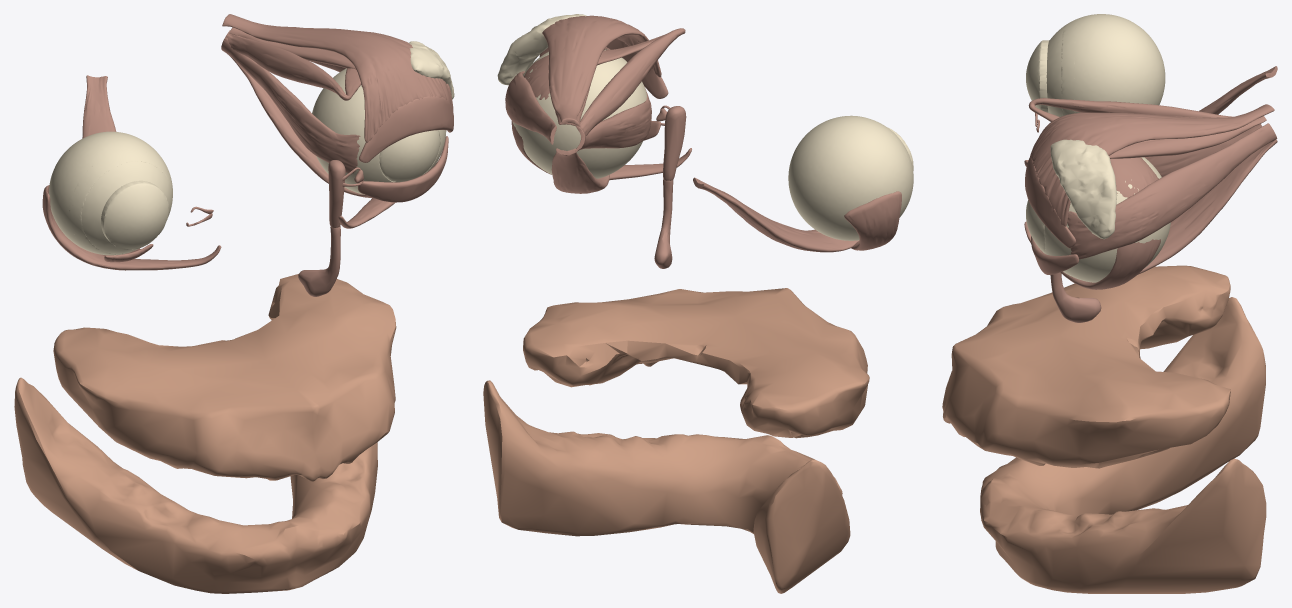
The model's file is head-0.glb.
3 views of the same model, side by side, from view 1: azimuth 30°, elevation 25°; view 2: azimuth 150°, elevation 25°; view 3: azimuth 270°, elevation 25° (orthographic). The views are drawn at different scales.
Parts seen in each view (by area): view 1: FJ1252, FJ1253, FJ1306, FJ1337, FJ1308, FJ1340, FJ1317, FJ1336, FJ1322, FJ1324, FJ1289, FJ1345 (+8 smaller); view 2: FJ1253, FJ1252, FJ1337, FJ1306, FJ1317, FJ1322, FJ1346, FJ1308, FJ1345, FJ1304, FJ1299, FJ1295 (+4 smaller); view 3: FJ1253, FJ1252, FJ1337, FJ1304, FJ1306, FJ1299, FJ1322, FJ1295, FJ1317, FJ1323, FJ1294, FJ1324 (+7 smaller).
Part boxes in pixels (left/top/right/bottom): FJ1252: left=53, top=274, right=396, bottom=481; FJ1253: left=14, top=377, right=377, bottom=593; FJ1306: left=222, top=14, right=453, bottom=142; FJ1337: left=49, top=131, right=172, bottom=255; FJ1308: left=221, top=36, right=360, bottom=174; FJ1340: left=101, top=180, right=168, bottom=249; FJ1317: left=312, top=68, right=446, bottom=194; FJ1336: left=69, top=149, right=172, bottom=254; FJ1322: left=226, top=30, right=361, bottom=100; FJ1324: left=359, top=96, right=453, bottom=162; FJ1289: left=379, top=130, right=440, bottom=182; FJ1345: left=42, top=185, right=221, bottom=270; FJ1253: left=483, top=380, right=850, bottom=593; FJ1252: left=523, top=288, right=869, bottom=438; FJ1337: left=788, top=115, right=913, bottom=240; FJ1306: left=539, top=15, right=661, bottom=125; FJ1317: left=512, top=49, right=646, bottom=178; FJ1322: left=524, top=28, right=685, bottom=135; FJ1346: left=693, top=177, right=858, bottom=252; FJ1308: left=575, top=88, right=651, bottom=151; FJ1345: left=844, top=191, right=901, bottom=250; FJ1304: left=505, top=71, right=556, bottom=144; FJ1299: left=497, top=14, right=586, bottom=85; FJ1295: left=551, top=148, right=609, bottom=193; FJ1253: left=980, top=297, right=1266, bottom=593; FJ1252: left=942, top=265, right=1230, bottom=468; FJ1337: left=1061, top=14, right=1165, bottom=116; FJ1304: left=1067, top=123, right=1277, bottom=259; FJ1306: left=1030, top=104, right=1274, bottom=226; FJ1299: left=1050, top=139, right=1117, bottom=239; FJ1322: left=1028, top=98, right=1233, bottom=197; FJ1295: left=1067, top=139, right=1277, bottom=277; FJ1317: left=1044, top=157, right=1170, bottom=282; FJ1323: left=1109, top=116, right=1266, bottom=158; FJ1294: left=1024, top=221, right=1160, bottom=289; FJ1324: left=1025, top=156, right=1076, bottom=248.
Size of the model in its own units: 0.0897 by 0.1028 by 0.0626.
